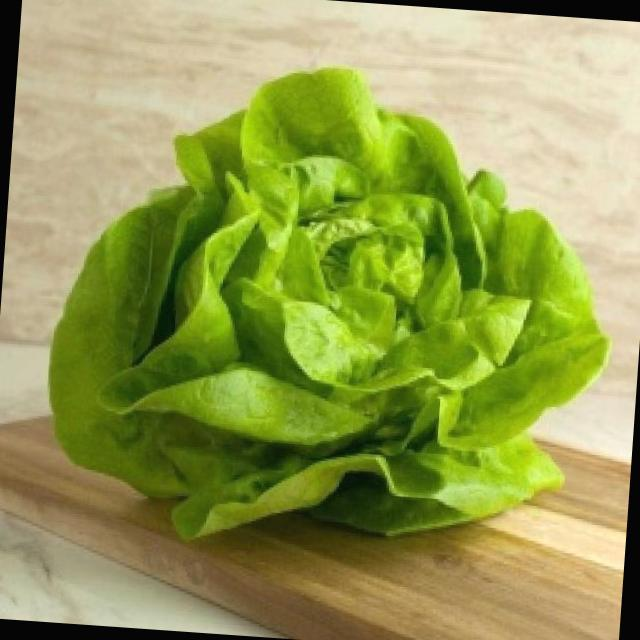Lettuce-Ready-to-Harvest: (49, 67, 608, 538)
